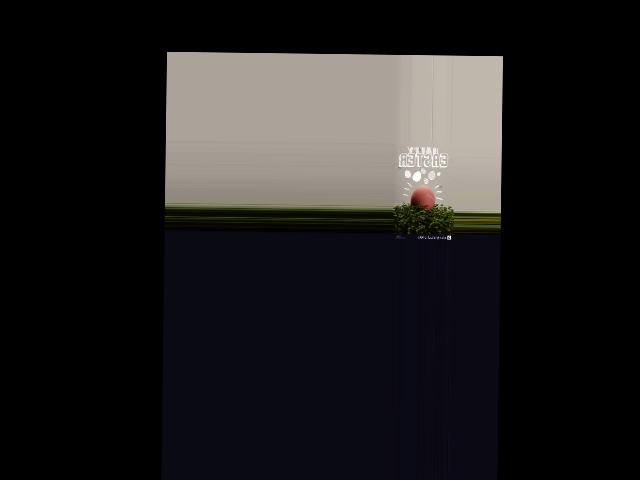egg: (409, 185, 434, 209)
